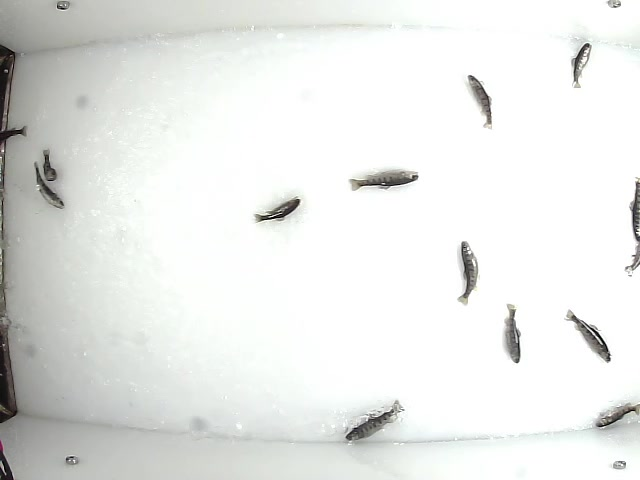fish: (563, 307, 611, 364), (342, 399, 407, 438), (350, 166, 420, 195), (30, 159, 67, 210), (453, 240, 481, 306), (466, 75, 496, 132), (499, 304, 524, 365), (250, 194, 301, 223), (594, 398, 640, 428), (569, 40, 591, 91), (37, 145, 58, 184)
